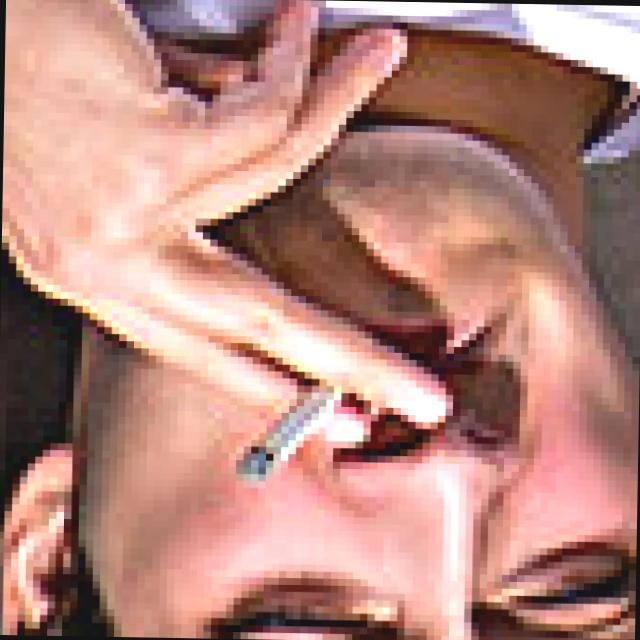cigarette: (225, 356, 357, 491)
